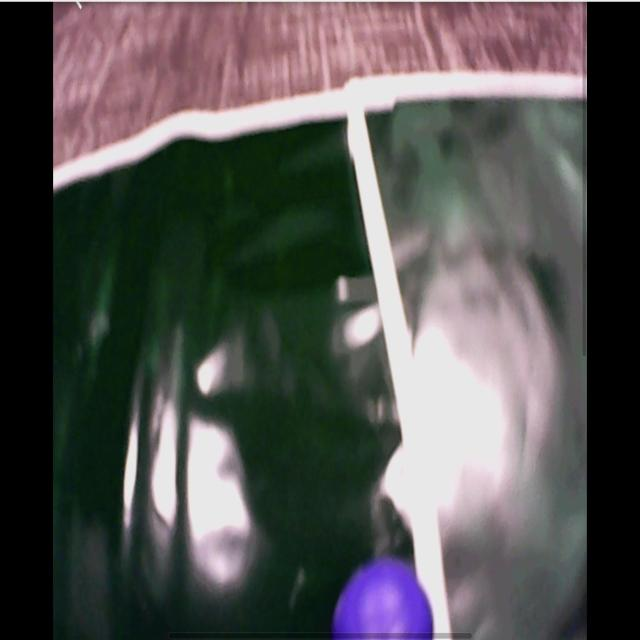ball: (334, 562, 438, 640)
